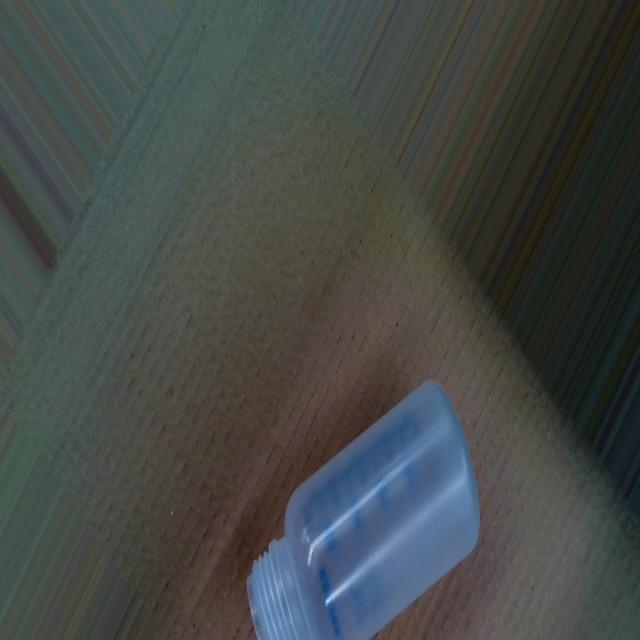bottle: (241, 370, 483, 640)
